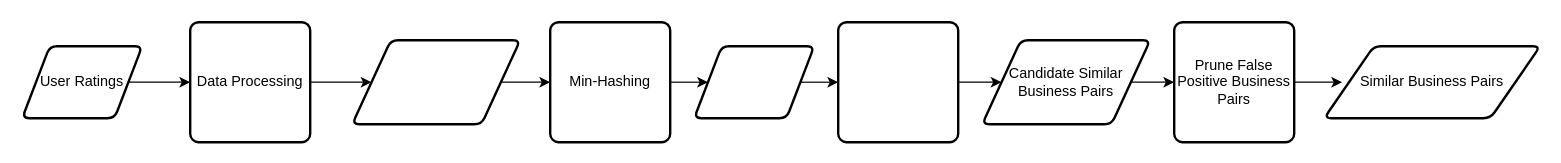
Some shapes in this 1561 by 163 pixel diagram are drawn without their labels. Each missing label, with the centre of its shape:
"LSH" goes at pixel 897 81.
"Mathematical Representation of businesses" goes at pixel 435 81.
"Signatures" goes at pixel 753 81.
